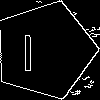I: (20, 25, 35, 71)
